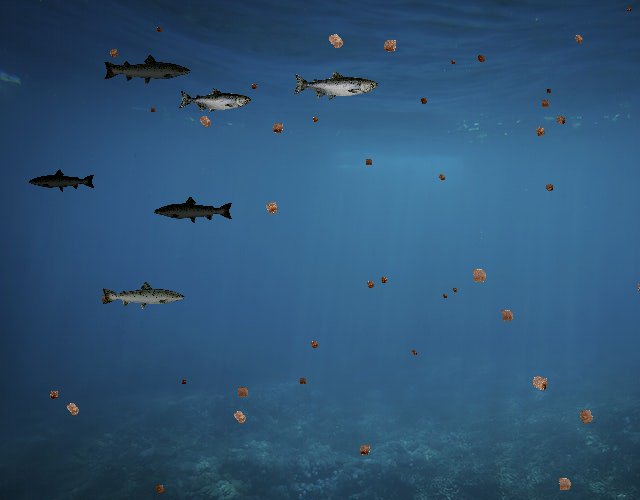Fish: (103, 54, 193, 86), (100, 280, 186, 311), (292, 70, 378, 101), (154, 196, 235, 225), (178, 88, 251, 114), (29, 168, 97, 193), (106, 61, 153, 78)
Pellet: (320, 26, 350, 56), (465, 262, 493, 290), (495, 304, 519, 328), (193, 109, 217, 133), (530, 121, 550, 141), (450, 284, 460, 294)
